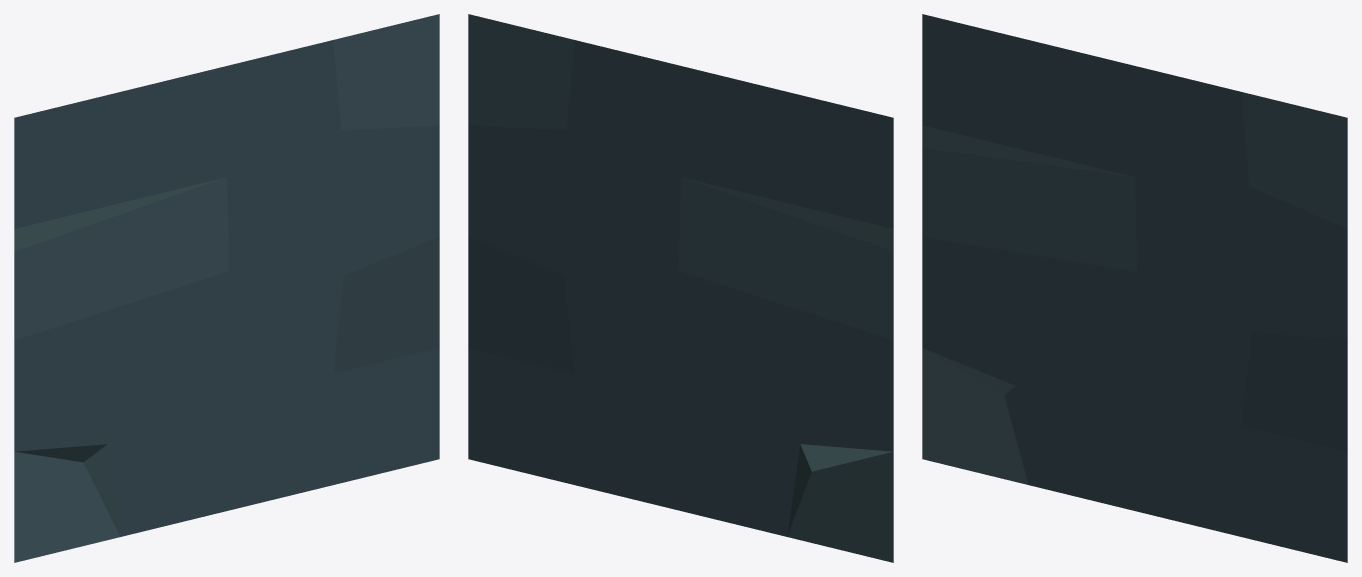
The model's file is wall_2m_back.fbx.
The picture shows the model from 3 angles, left to right: view 1: azimuth 30°, elevation 25°; view 2: azimuth 150°, elevation 25°; view 3: azimuth 330°, elevation 25°; orthographic projection.
Visible parts, largest first — view 1: wall_2m_back; view 2: wall_2m_back; view 3: wall_2m_back.
Boxes of the visible parts, x1=… form: wall_2m_back: x1=14, y1=14, x2=439, y2=562; wall_2m_back: x1=468, y1=14, x2=893, y2=562; wall_2m_back: x1=922, y1=14, x2=1347, y2=562.
Size of the model in its own units: 200 by 200 by 5.12.
